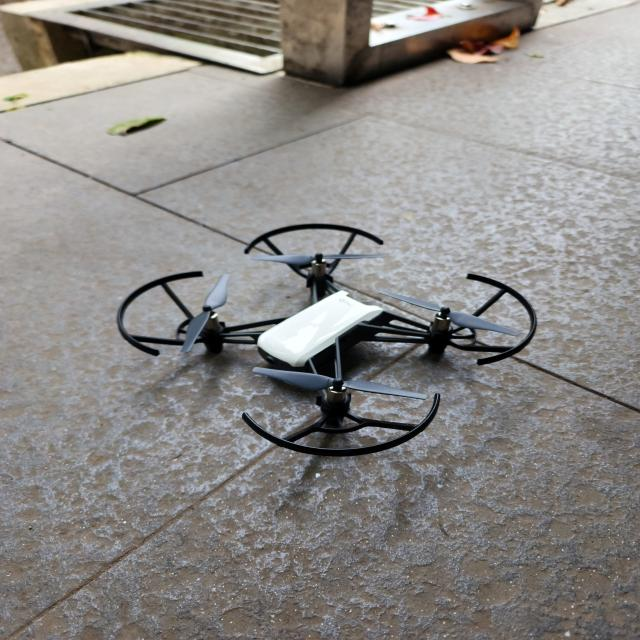drone: (108, 218, 543, 464)
